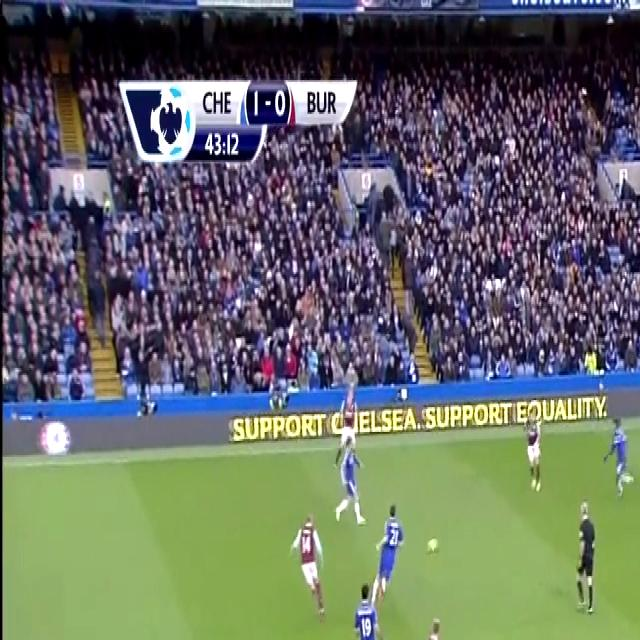ball: (425, 532, 441, 560), (430, 529, 444, 557)
referee: (572, 492, 603, 618)
soccer-player: (290, 502, 330, 622), (370, 498, 408, 607), (330, 427, 365, 532), (606, 408, 636, 506), (344, 576, 381, 640), (333, 370, 358, 463), (521, 407, 546, 499), (406, 608, 457, 640)
